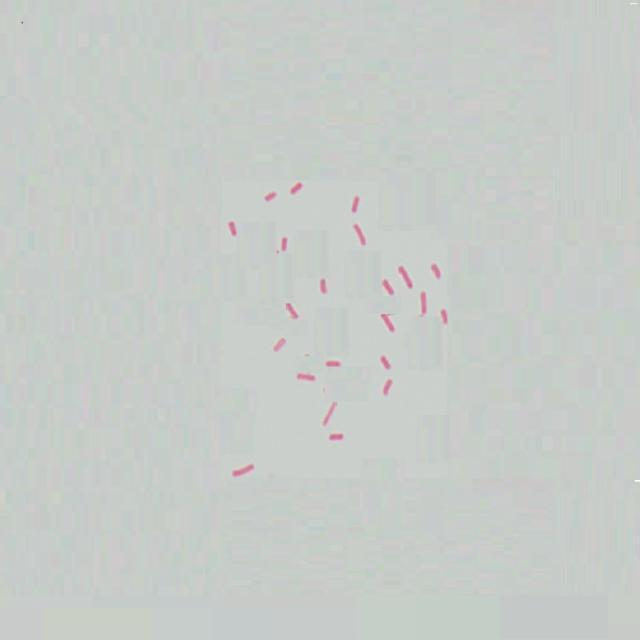E-coli: (399, 260, 417, 293), (283, 295, 302, 325), (319, 399, 338, 426), (430, 257, 447, 287), (348, 222, 367, 248), (224, 213, 240, 243), (230, 461, 258, 478), (378, 376, 396, 397), (293, 369, 317, 384), (286, 177, 304, 197), (258, 187, 278, 204), (272, 333, 287, 355), (323, 355, 346, 369), (417, 290, 428, 318), (348, 195, 364, 214), (383, 314, 397, 334), (439, 307, 452, 327), (379, 353, 392, 373), (380, 279, 397, 294), (328, 431, 347, 443), (279, 235, 291, 253), (319, 276, 330, 295)
